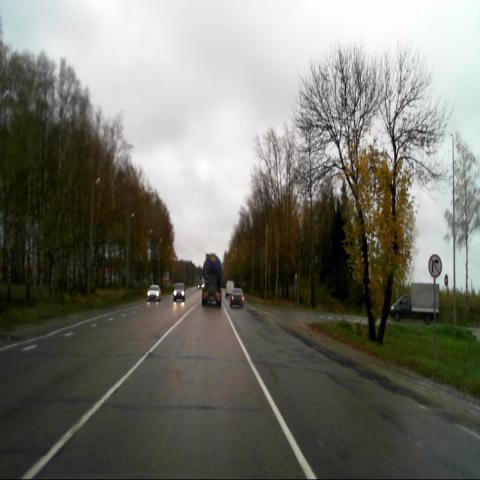3_18: (427, 250, 443, 281)
